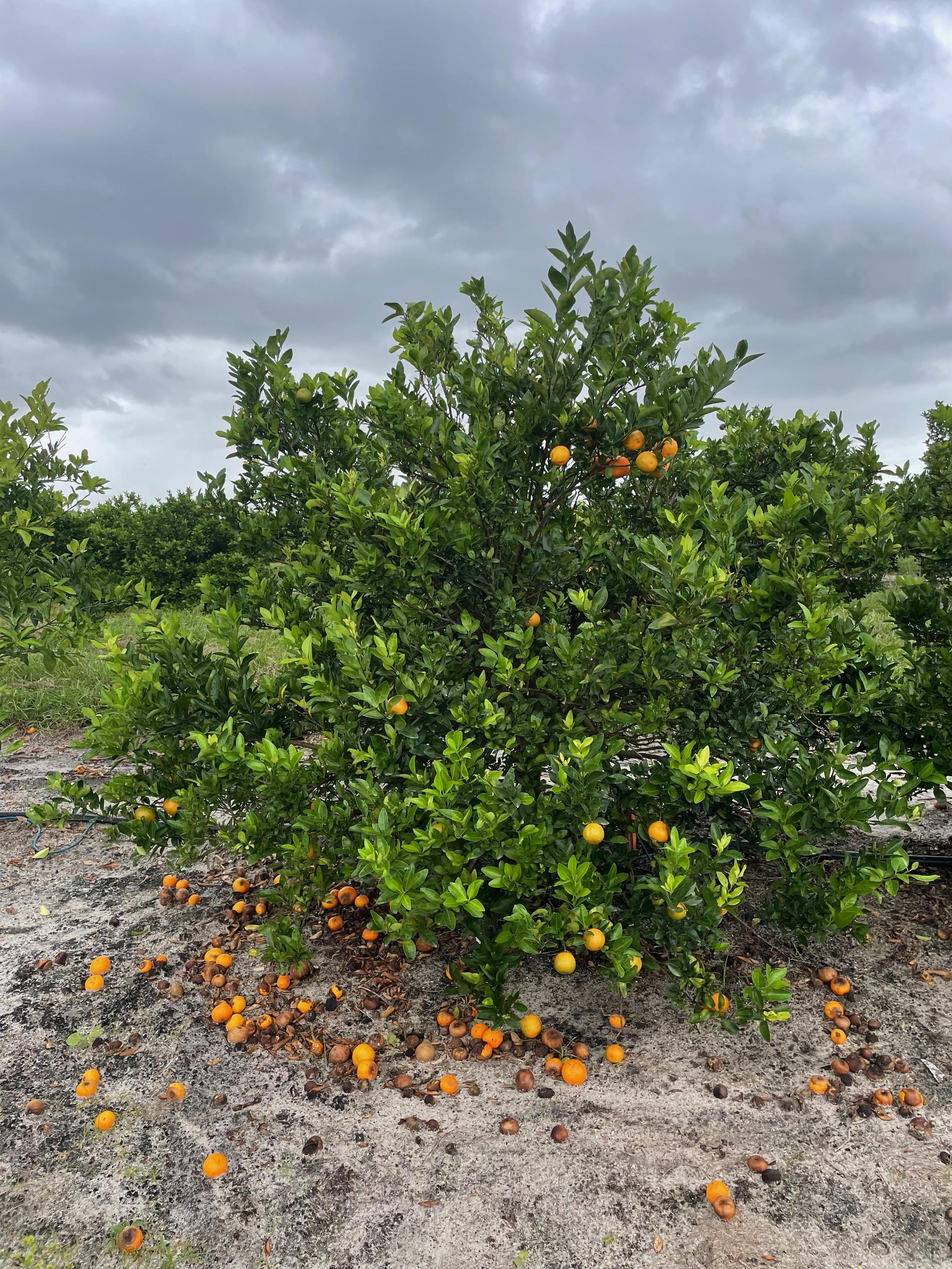fruit_on_ground: (601, 452, 633, 480), (587, 450, 614, 478), (581, 926, 607, 954), (383, 693, 411, 718), (427, 815, 453, 841), (552, 950, 578, 976), (646, 818, 672, 844), (655, 434, 681, 459), (646, 454, 671, 478), (635, 449, 659, 474), (582, 821, 606, 845), (576, 412, 602, 434), (623, 428, 646, 452), (132, 804, 158, 825), (665, 899, 688, 921), (549, 444, 571, 467), (161, 795, 184, 816), (521, 609, 543, 630), (294, 385, 315, 406), (623, 951, 643, 973), (301, 843, 319, 862), (746, 736, 764, 753)
fruit_on_tree: (116, 1224, 144, 1255), (561, 1058, 588, 1085), (202, 1151, 229, 1178), (707, 990, 733, 1014), (518, 1012, 542, 1038), (705, 1179, 730, 1203), (899, 1085, 925, 1108), (713, 1197, 737, 1221), (444, 958, 467, 981), (541, 1025, 565, 1047), (514, 1068, 536, 1091), (352, 1042, 375, 1064), (808, 1072, 830, 1094), (844, 1051, 866, 1072), (498, 1115, 520, 1136), (94, 1110, 116, 1131), (817, 963, 840, 983), (830, 975, 853, 995), (549, 1122, 570, 1143), (605, 1043, 626, 1064), (329, 1043, 351, 1063), (415, 1041, 437, 1061), (746, 1154, 769, 1173), (165, 1080, 186, 1100), (440, 1073, 460, 1094), (889, 1056, 911, 1075), (290, 959, 312, 978), (872, 1087, 894, 1106), (89, 956, 111, 975), (484, 1026, 504, 1046), (543, 1056, 564, 1075), (84, 974, 105, 993), (569, 1038, 590, 1057), (226, 1026, 248, 1044), (823, 998, 845, 1016), (23, 1096, 45, 1114), (201, 963, 221, 982), (469, 1020, 490, 1038), (81, 1066, 100, 1085), (337, 884, 356, 903), (607, 1010, 626, 1029), (449, 1019, 469, 1037), (212, 1001, 230, 1021), (392, 1071, 413, 1088), (357, 1063, 378, 1080), (75, 1080, 96, 1097), (203, 946, 223, 963), (326, 914, 346, 931), (830, 1057, 851, 1073), (215, 951, 234, 968), (711, 1082, 730, 1099), (229, 993, 248, 1010), (232, 876, 251, 893), (534, 1084, 554, 1100), (477, 1039, 495, 1056), (227, 1012, 246, 1028), (168, 981, 185, 998), (275, 973, 292, 990), (322, 996, 340, 1012), (296, 996, 314, 1012), (436, 1009, 454, 1025), (830, 1028, 848, 1044), (834, 1013, 853, 1028), (361, 995, 381, 1009), (451, 1045, 468, 1061), (173, 887, 190, 903), (308, 1038, 324, 1055), (158, 887, 176, 902), (402, 1033, 420, 1048), (209, 973, 227, 988), (361, 926, 379, 941), (321, 893, 337, 909), (354, 893, 371, 908), (160, 872, 177, 887), (935, 926, 950, 942), (329, 982, 345, 997), (257, 1013, 272, 1029), (138, 958, 154, 973), (463, 1004, 479, 1018), (848, 1011, 864, 1025), (186, 891, 202, 905), (254, 901, 268, 916), (175, 877, 190, 891), (233, 865, 249, 878), (423, 1093, 437, 1107), (210, 935, 225, 948), (868, 1016, 883, 1029), (232, 899, 247, 912), (328, 888, 342, 901), (425, 1118, 439, 1131), (270, 873, 284, 886), (74, 762, 88, 775), (183, 956, 198, 968), (154, 952, 169, 964), (156, 978, 169, 991), (257, 984, 271, 996), (291, 902, 304, 914), (861, 1045, 874, 1057), (26, 725, 36, 735)
